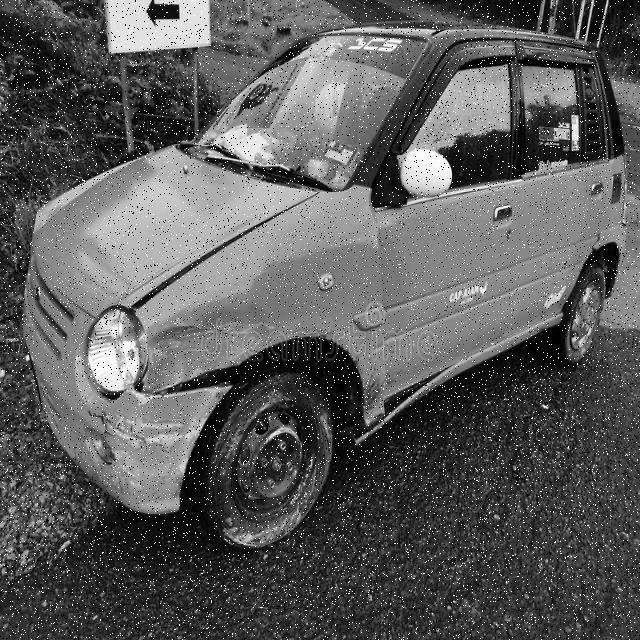fender-dent: (143, 260, 383, 434)
front-bumper-dent: (1, 349, 205, 512)
